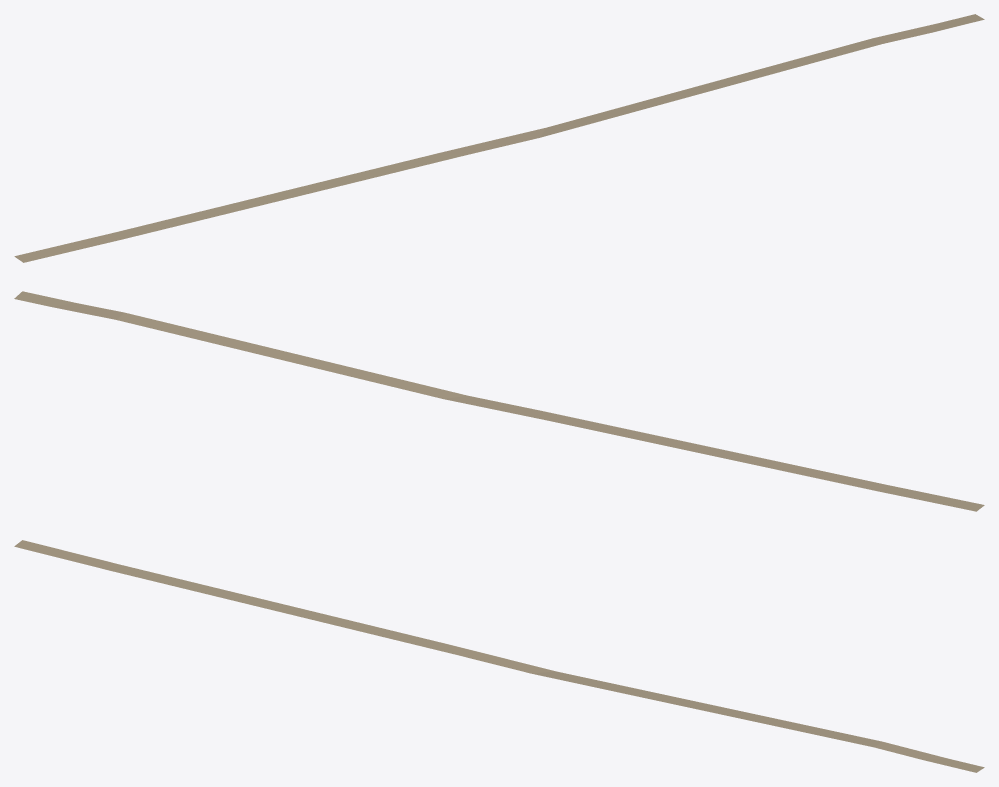
Rendered from farm_18_21_track.glb.
The picture shows the model from 3 angles, top to bottom: view 1: azimuth 30°, elevation 25°; view 2: azimuth 150°, elevation 25°; view 3: azimuth 330°, elevation 25°; orthographic projection. The views are drawn at different scales.
Visible parts, largest first — view 1: geometry_0; view 2: geometry_0; view 3: geometry_0.
Boxes of the visible parts, box(x1,y1,x2,y2) form: geometry_0: box(14, 14, 984, 262); geometry_0: box(14, 291, 984, 511); geometry_0: box(14, 540, 984, 772).
Size of the model in its own units: 202 by 1.91 by 8.87.
